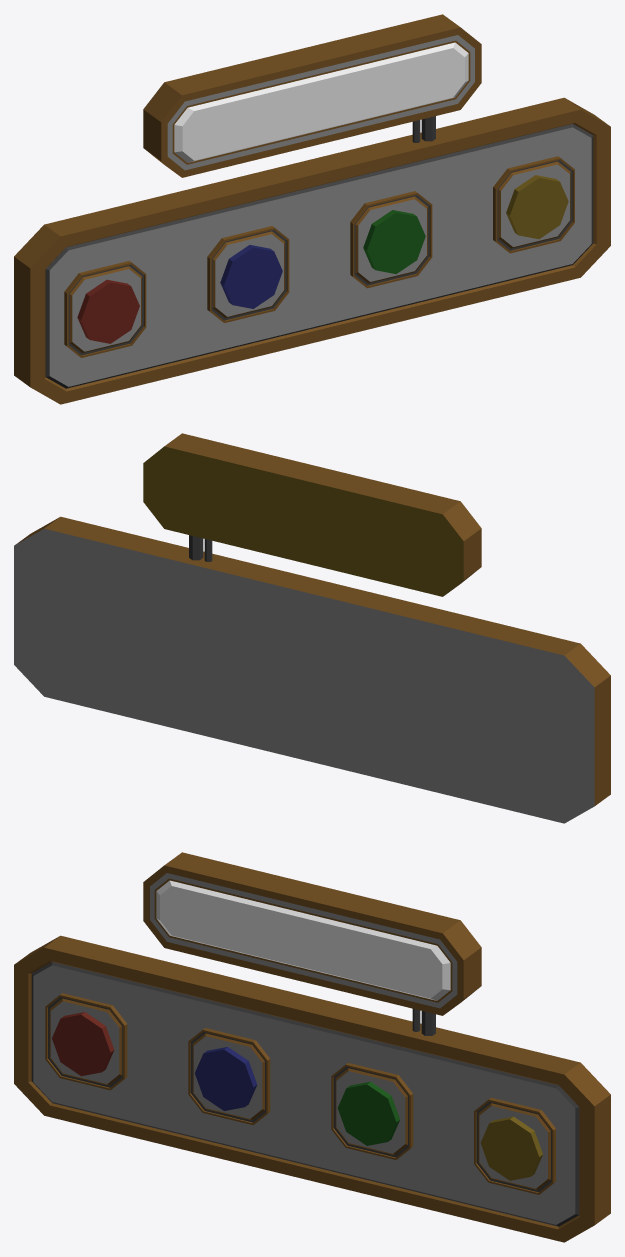
File: sequenceButtons.fbx
3 renders of one model, top to bottom at view 1: azimuth 30°, elevation 25°; view 2: azimuth 150°, elevation 25°; view 3: azimuth 330°, elevation 25°, orthographic.
Visible parts, largest first — view 1: Sequence Buttons; view 2: Sequence Buttons; view 3: Sequence Buttons.
Boxes of the visible parts, box(x1,y1,x2,y2) form: Sequence Buttons: box(14, 14, 610, 404); Sequence Buttons: box(14, 433, 610, 823); Sequence Buttons: box(14, 852, 610, 1242).
Size of the model in its own units: 182 by 12.85 by 84.12.
